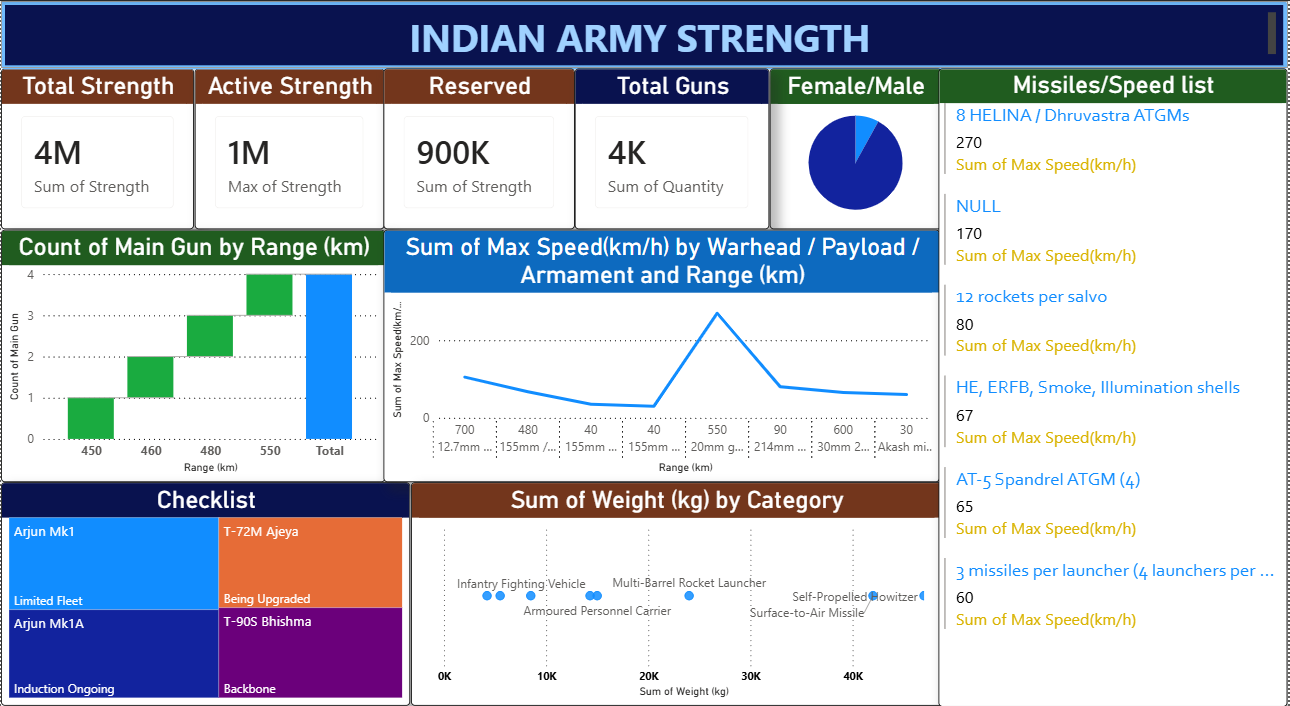

Layout of this report page (visuals, bound fields, positions):
{"tool":"powerbi","page":{"name":"Page 1","canvas":[1280,720],"ordinal":0},"visuals":[{"type":"cardVisual","title":"Total Strength","fields":{"Data":["Sum(ARMY PERSONAL.Strength)"]},"box":[0,67.6,192.2,160.2],"z":0},{"type":"cardVisual","title":"Active Strength","fields":{"Data":["Max(ARMY PERSONAL.Strength)"]},"box":[192.2,67.6,188.7,160.2],"z":1000},{"type":"textbox","box":[0,0,1279.7,67.6],"z":2000},{"type":"cardVisual","title":"Reserved","fields":{"Data":["Sum(ARMY PERSONAL.Strength)"]},"box":[380.9,67.6,190.4,160.2],"z":3000},{"type":"pieChart","title":"Female/Male","fields":{"Y":["Sum(ARMY PERSONAL.Female %)","Sum(ARMY PERSONAL.Male %)"]},"box":[765.3,67.6,170.9,160.2],"z":4000},{"type":"cardVisual","title":"Total Guns","fields":{"Data":["Sum(Table002 (Page 2).Quantity)"]},"box":[571.3,67.6,194,160.2],"z":5000},{"type":"waterfallChart","fields":{"Category":["Table002 (Page 2).Range (km)"],"Y":["CountNonNull(Table002 (Page 2).Main Gun)"]},"box":[0,227.8,382.7,250.9],"z":6000},{"type":"treemap","title":"Checklist","fields":{"Details":["Table002 (Page 2).Operational Status"],"Group":["Table002 (Page 2).Platform"],"Values":["Sum(Table002 (Page 2).Max Speed(km/h))"]},"box":[0,478.8,407.6,222.5],"z":7000},{"type":"lineChart","fields":{"Category":["Table003 (Page 3).Warhead / Payload / Armament","Table003 (Page 3).Range (km)"],"Y":["Sum(Table003 (Page 3).Max Speed(km/h))"]},"box":[380.9,227.8,553.5,250.9],"z":8000},{"type":"scatterChart","fields":{"Category":["Table003 (Page 3).Category"],"X":["Sum(Table003 (Page 3).Weight (kg))"]},"box":[407.6,478.8,528.6,222.5],"z":9000},{"type":"multiRowCard","title":"Missiles/Speed list","fields":{"Values":["Sum(Table003 (Page 3).Max Speed(km/h))","Table003 (Page 3).Missiles / Munitions Can Carry"]},"box":[932.6,67.6,347.1,635.4],"z":10000}]}

Visuals, with their boxes in screenshot pixels (x1, y1, x2, y2), scaled from the page's 1280x720 canvas onto the 1290x706 screenshot:
"Total Strength" cardVisual: 0:66:194:223
"Active Strength" cardVisual: 194:66:384:223
textbox: 0:0:1289:66
"Reserved" cardVisual: 384:66:576:223
"Female/Male" pieChart: 771:66:944:223
"Total Guns" cardVisual: 576:66:771:223
waterfallChart - Table002 (Page 2).Range (km) x CountNonNull(Table002 (Page 2).Main Gun): 0:223:386:469
"Checklist" treemap: 0:469:411:688
lineChart - Table003 (Page 3).Warhead / Payload / Armament x Table003 (Page 3).Range (km): 384:223:942:469
scatterChart - Table003 (Page 3).Category x Sum(Table003 (Page 3).Weight (kg)): 411:469:944:688
"Missiles/Speed list" multiRowCard: 940:66:1289:689
